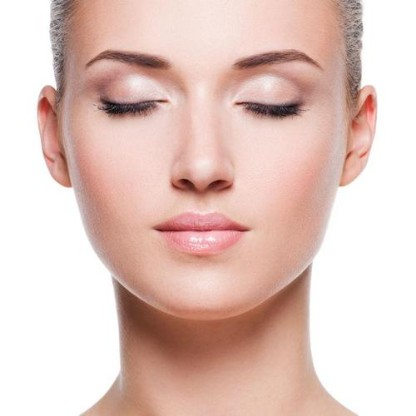闭眼: (90, 76, 176, 124), (231, 81, 309, 133)
